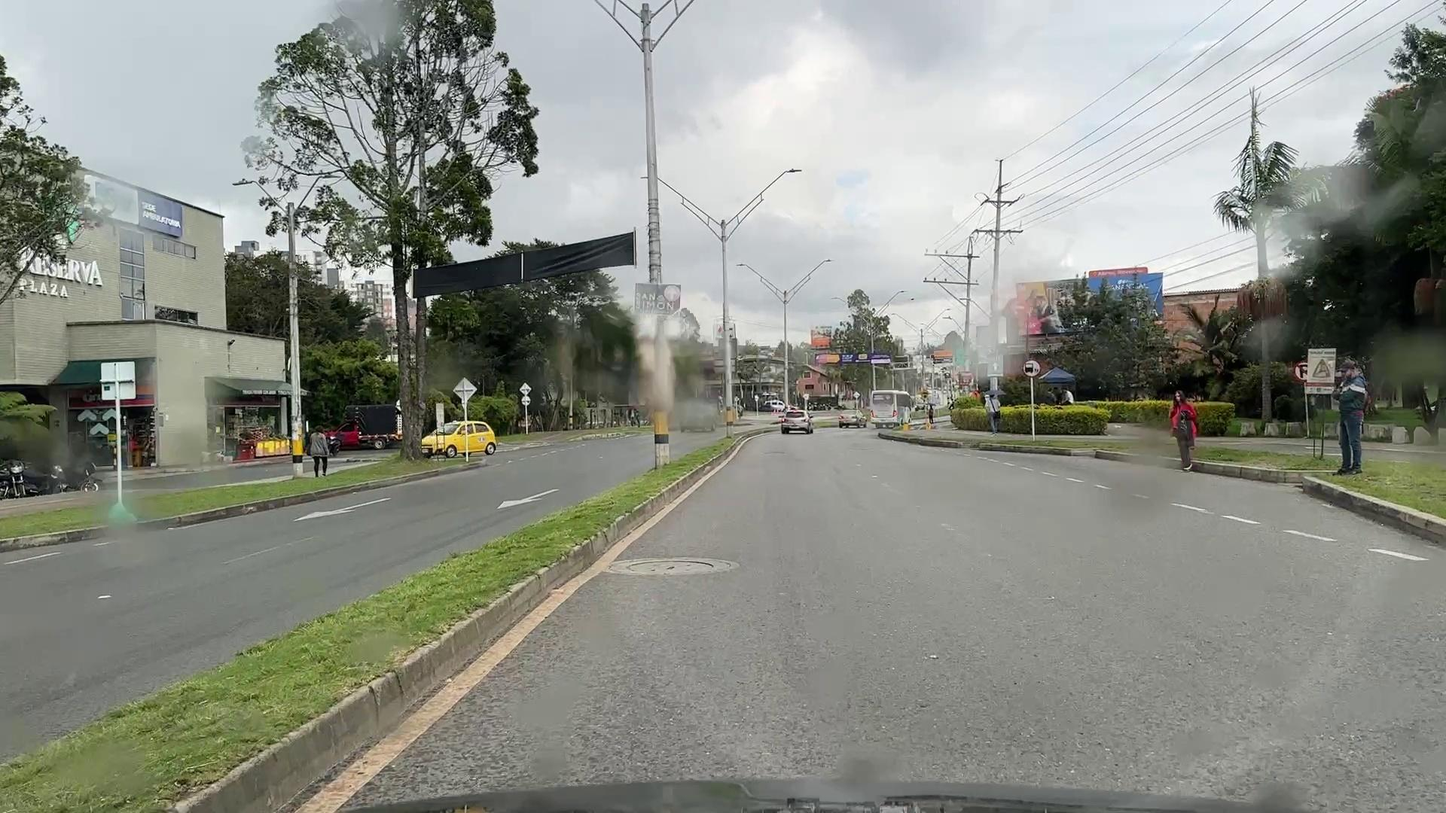registro: (627, 561, 713, 572)
